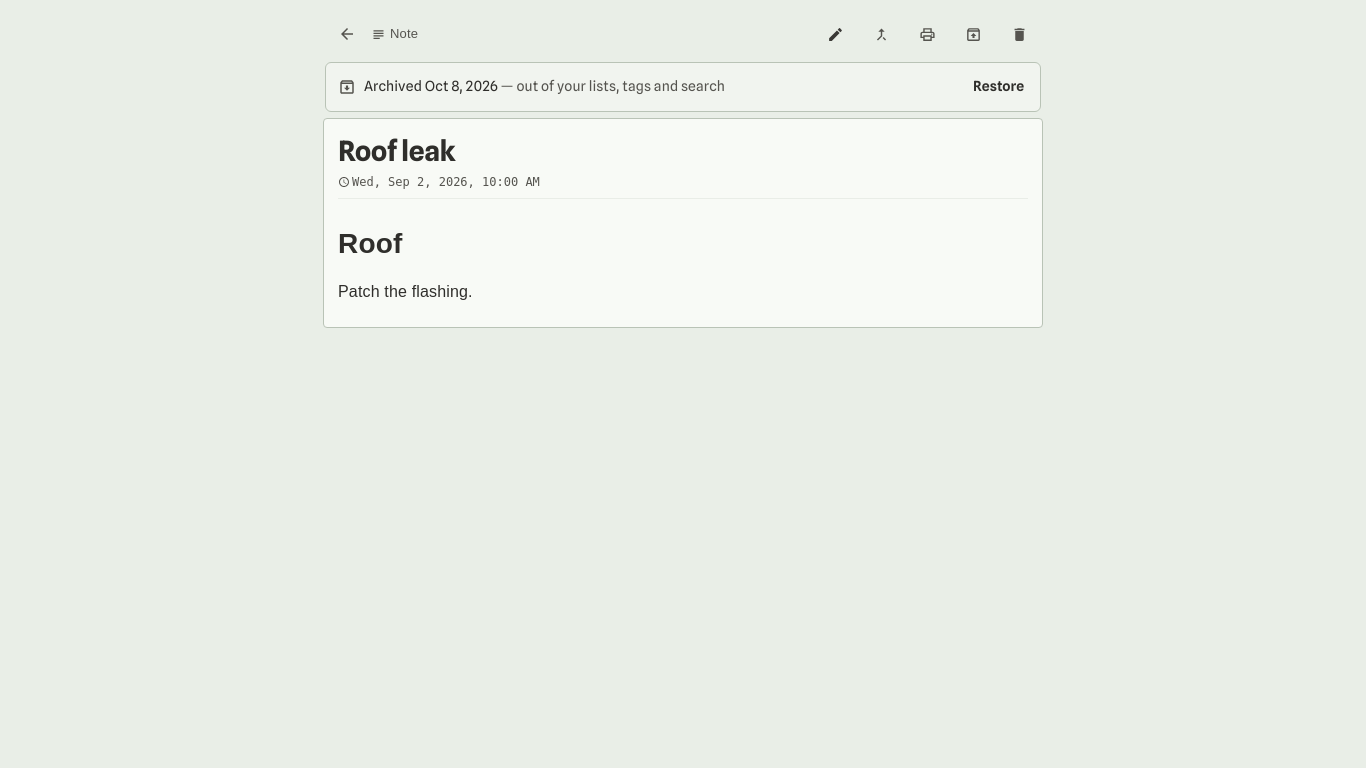
Test: an archived note opened directly › shows "Archived <date>" with Restore, and Restore brings it back
Expected: the element that starts with "Archived" shows "Archived Oct 8, 2026", [325, 62, 1041, 112]
Expected: the text "Patch the flashing." is shown, [338, 283, 473, 300]
Click the button "Restore": (999, 87) [961, 65, 1036, 109]
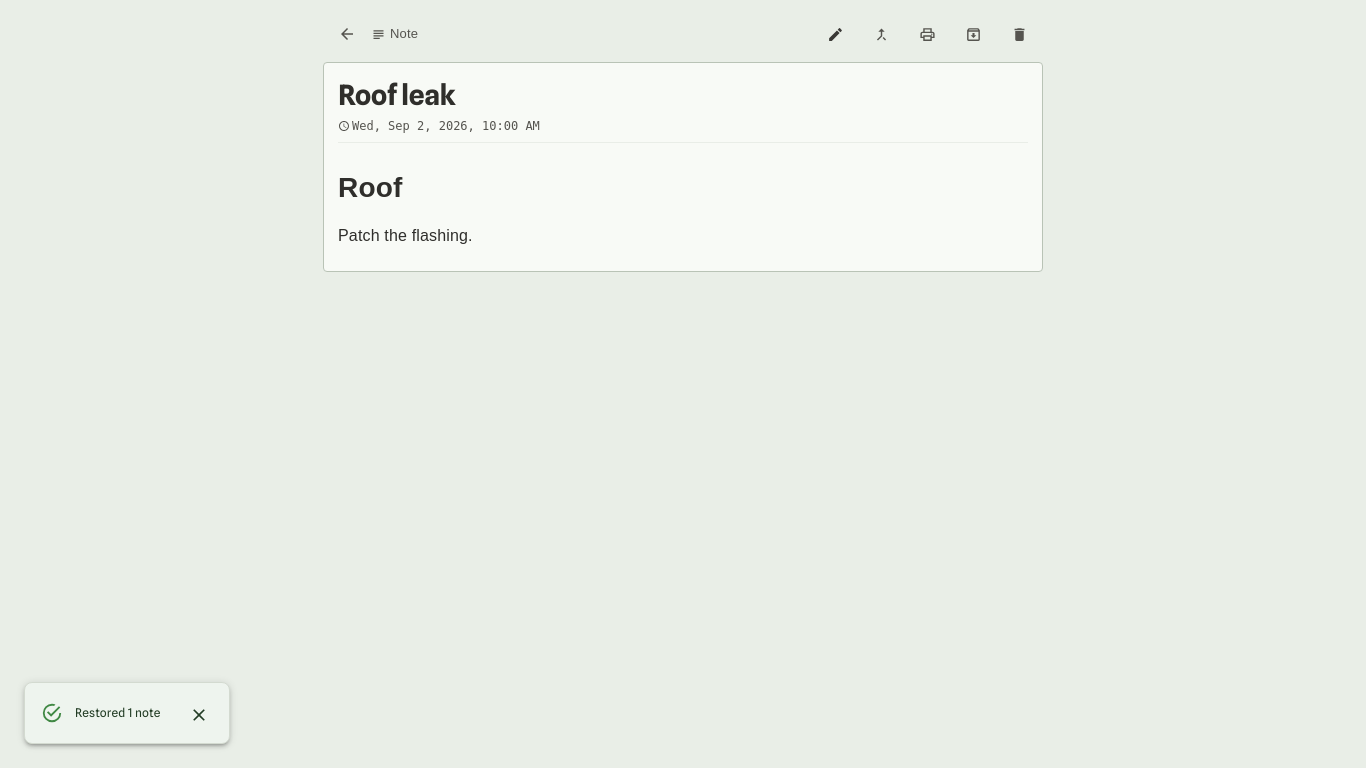
Expected: the text "Restored 1 note" is shown, [75, 705, 160, 720]
